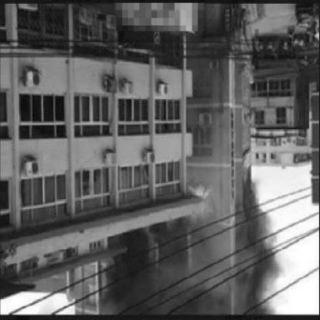Fire: (186, 187, 216, 235)
Smoke: (239, 185, 280, 313), (108, 234, 156, 314), (155, 267, 223, 313)
